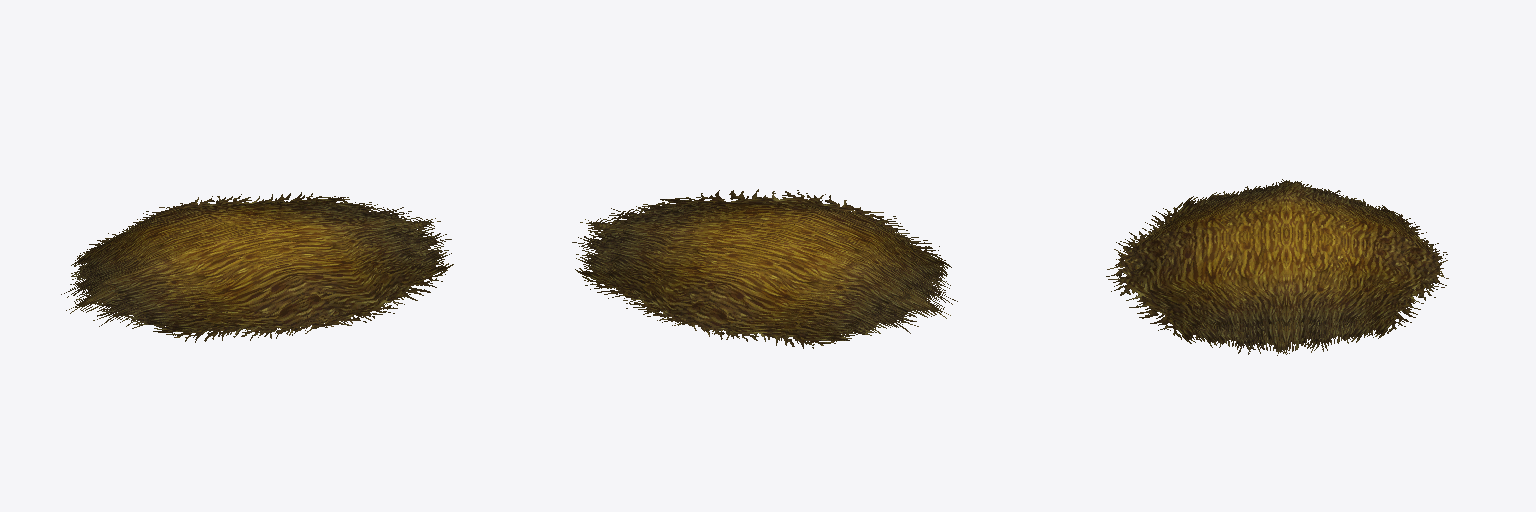
3 renders of one model, left to right at view 1: azimuth 30°, elevation 25°; view 2: azimuth 150°, elevation 25°; view 3: azimuth 270°, elevation 25°, orthographic.
Visible parts, largest first — view 1: darkhaypilemedium01.m2; view 2: darkhaypilemedium01.m2; view 3: darkhaypilemedium01.m2.
Boxes of the visible parts, x1=… form: darkhaypilemedium01.m2: x1=61, y1=192, x2=453, y2=342; darkhaypilemedium01.m2: x1=572, y1=189, x2=957, y2=348; darkhaypilemedium01.m2: x1=1106, y1=179, x2=1448, y2=355.
Bounding box in the file's own units: 14.53 × 1.42 × 11.25.
Materials: 1 (1 with a texture image).